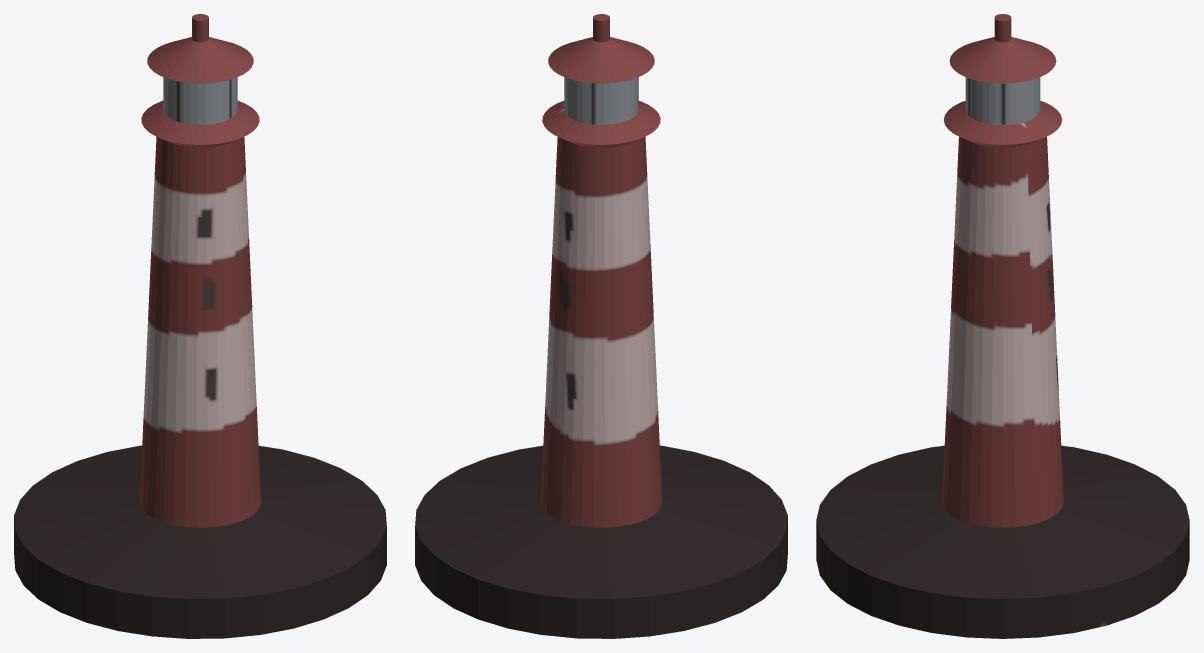
File: Lighthouse.fbx
3 renders of one model, left to right at view 1: azimuth 30°, elevation 25°; view 2: azimuth 150°, elevation 25°; view 3: azimuth 270°, elevation 25°, orthographic.
Parts seen in each view (by area): view 1: Cylinder; view 2: Cylinder; view 3: Cylinder.
Boxes of the visible parts, x1,y1,x2,y2 form: Cylinder: [14, 14, 386, 638]; Cylinder: [415, 14, 787, 638]; Cylinder: [816, 14, 1189, 638].
Bounding box in the file's own units: 2772 × 4445 × 2772.
